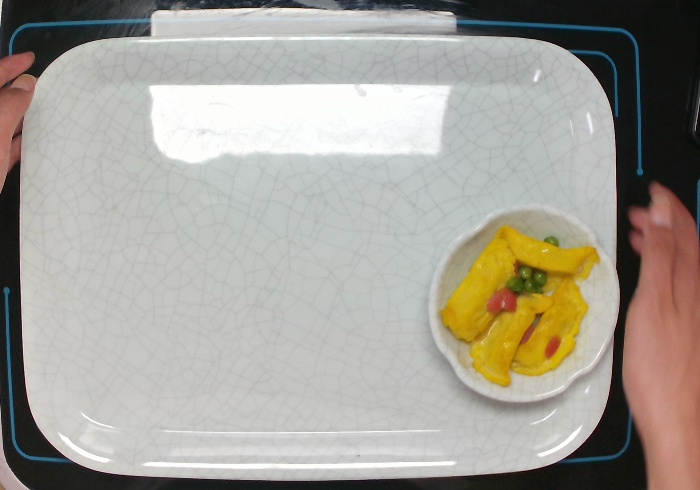JYsf-Ao_Yuan_Wan: (426, 201, 622, 403)
